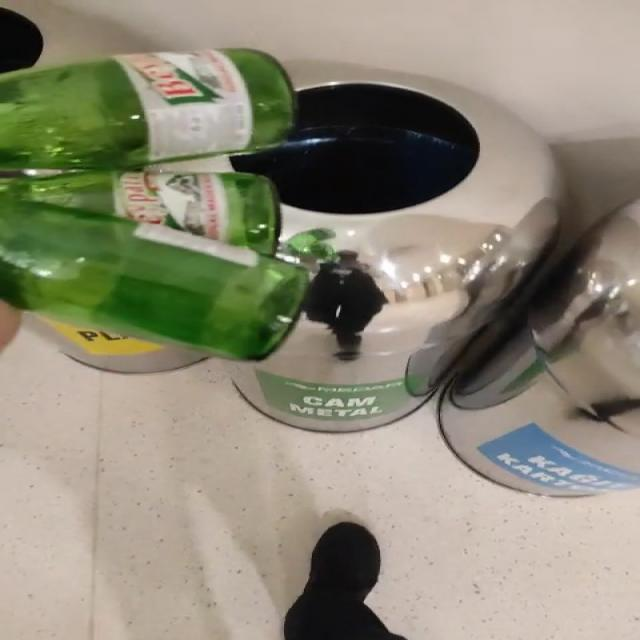bin: (163, 60, 561, 432)
glass: (0, 48, 309, 360)
